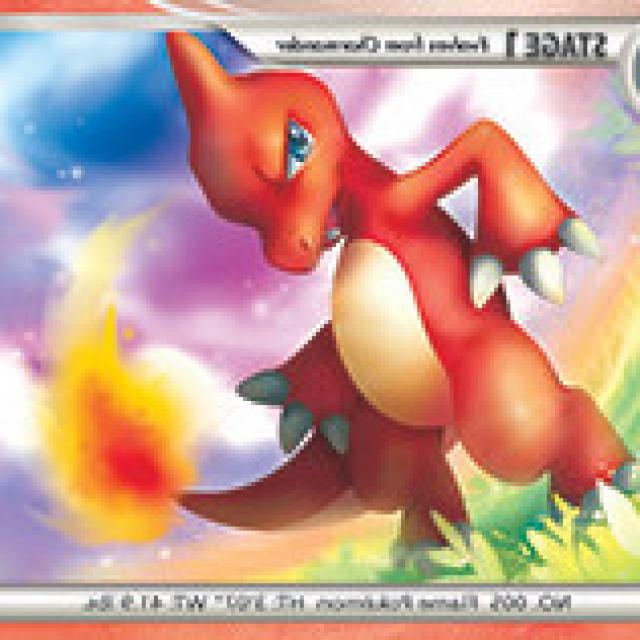Charmeleon: (77, 60, 598, 567)
